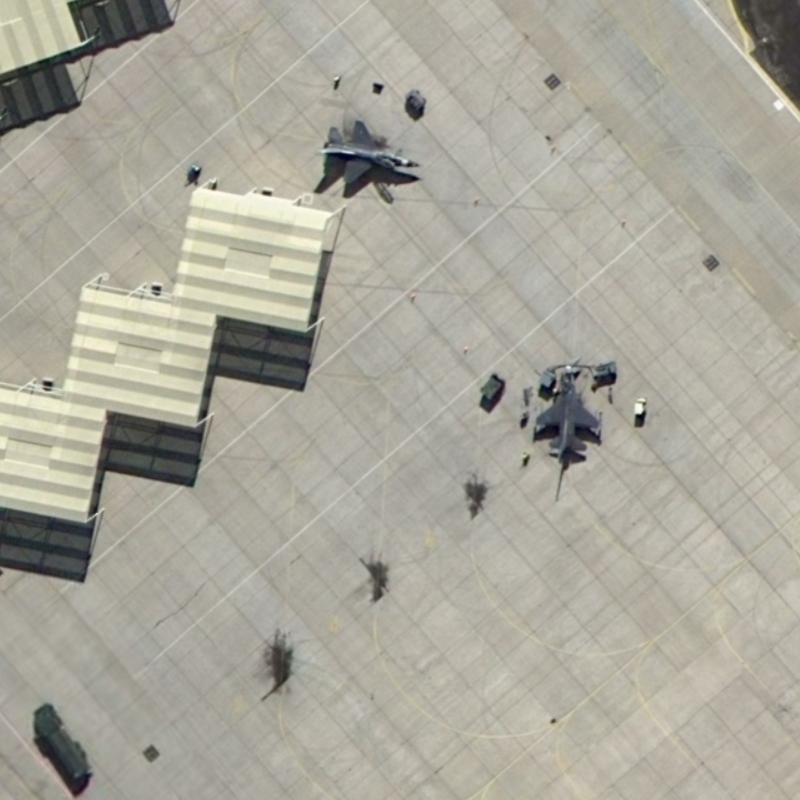A5: (315, 115, 424, 197), (529, 362, 600, 463)
